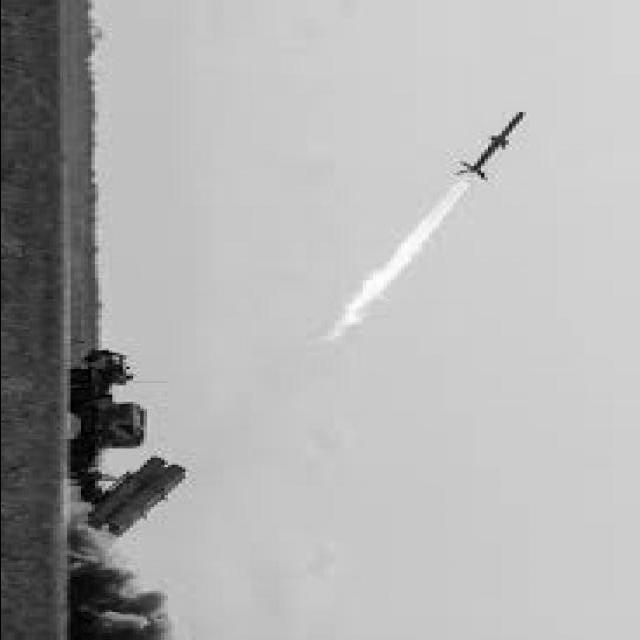Missile: (447, 104, 539, 189)
